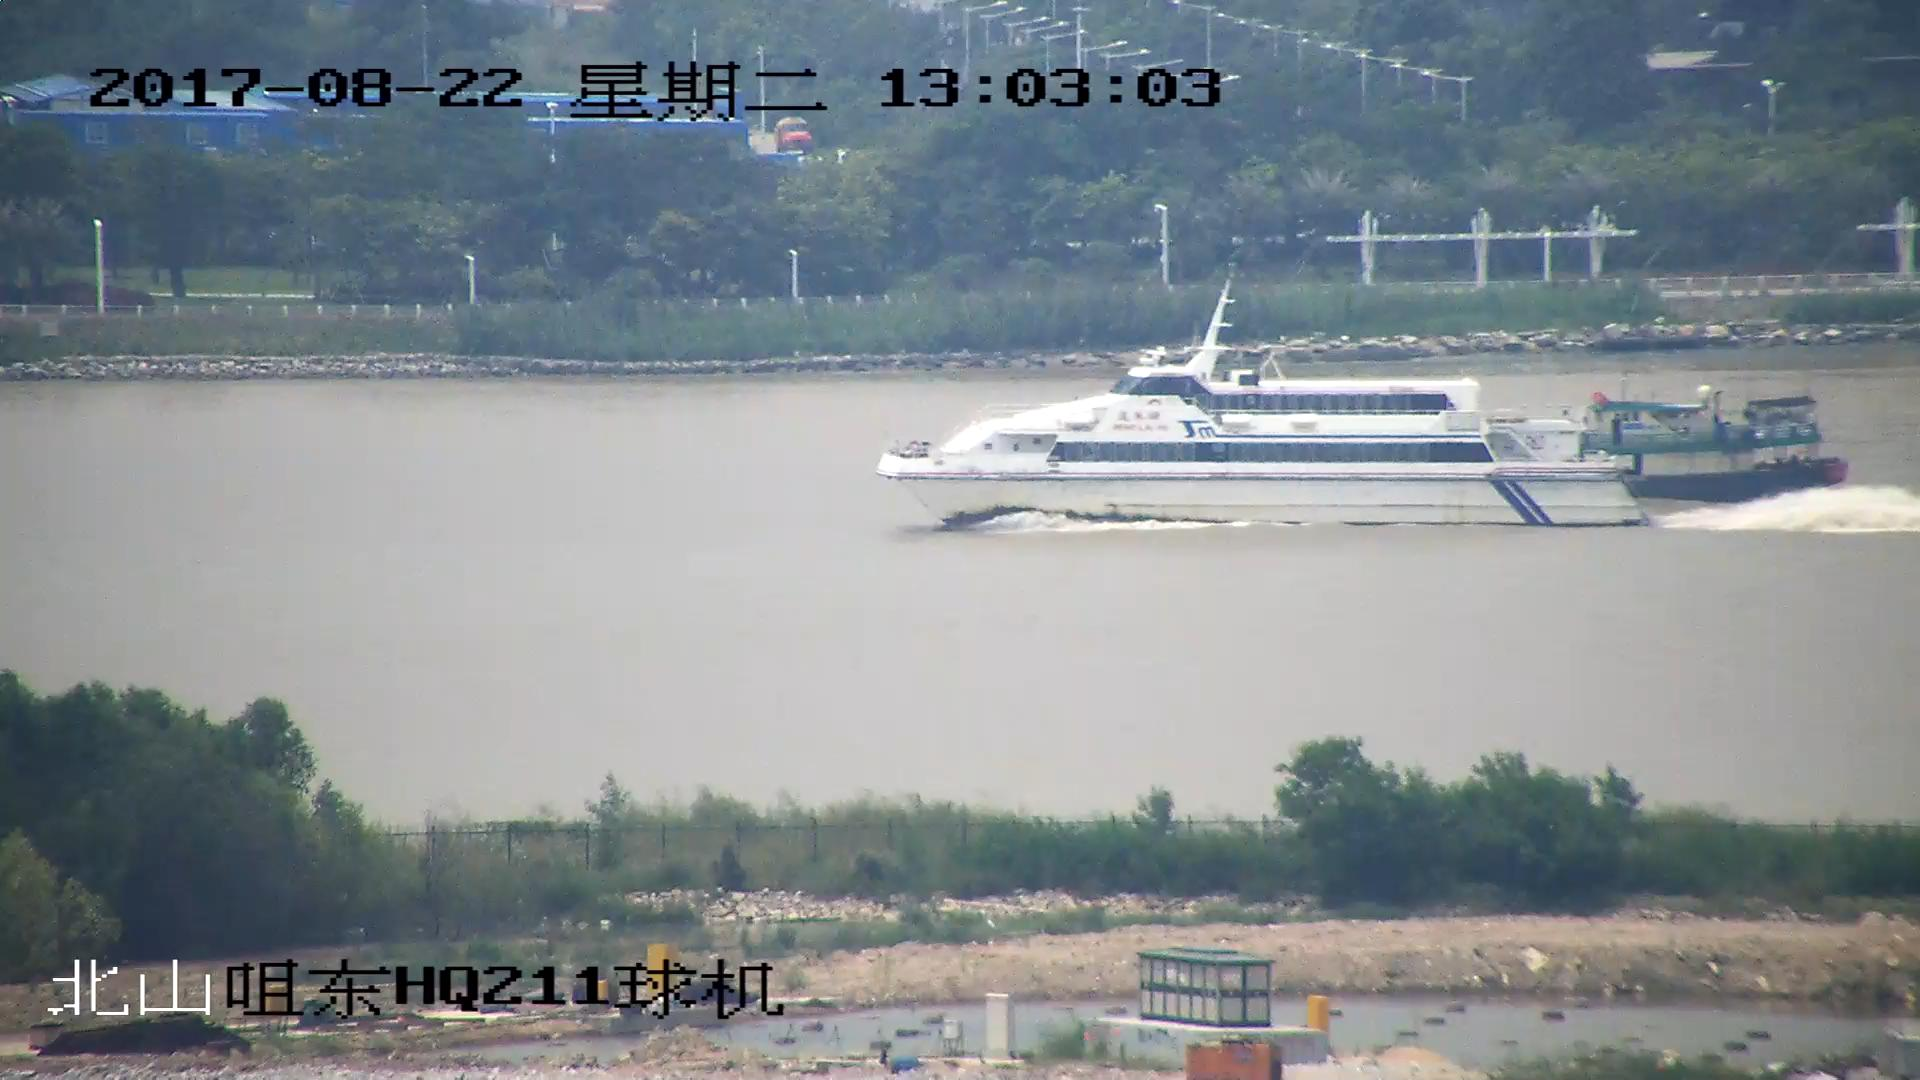fishing boat: (1504, 395, 1848, 501)
passenger ship: (876, 290, 1655, 535)
